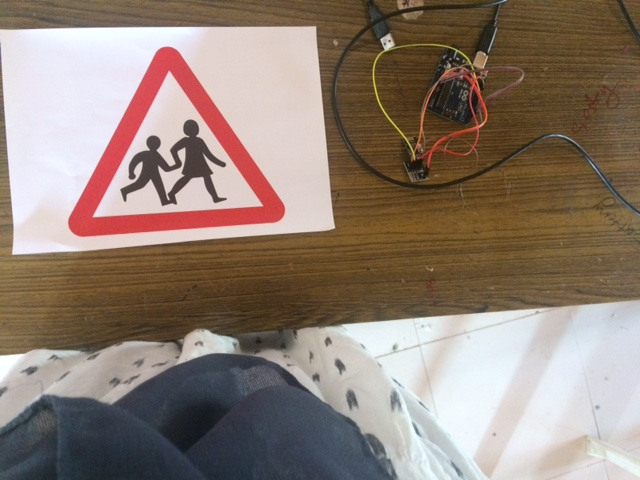sign: (61, 43, 287, 237)
